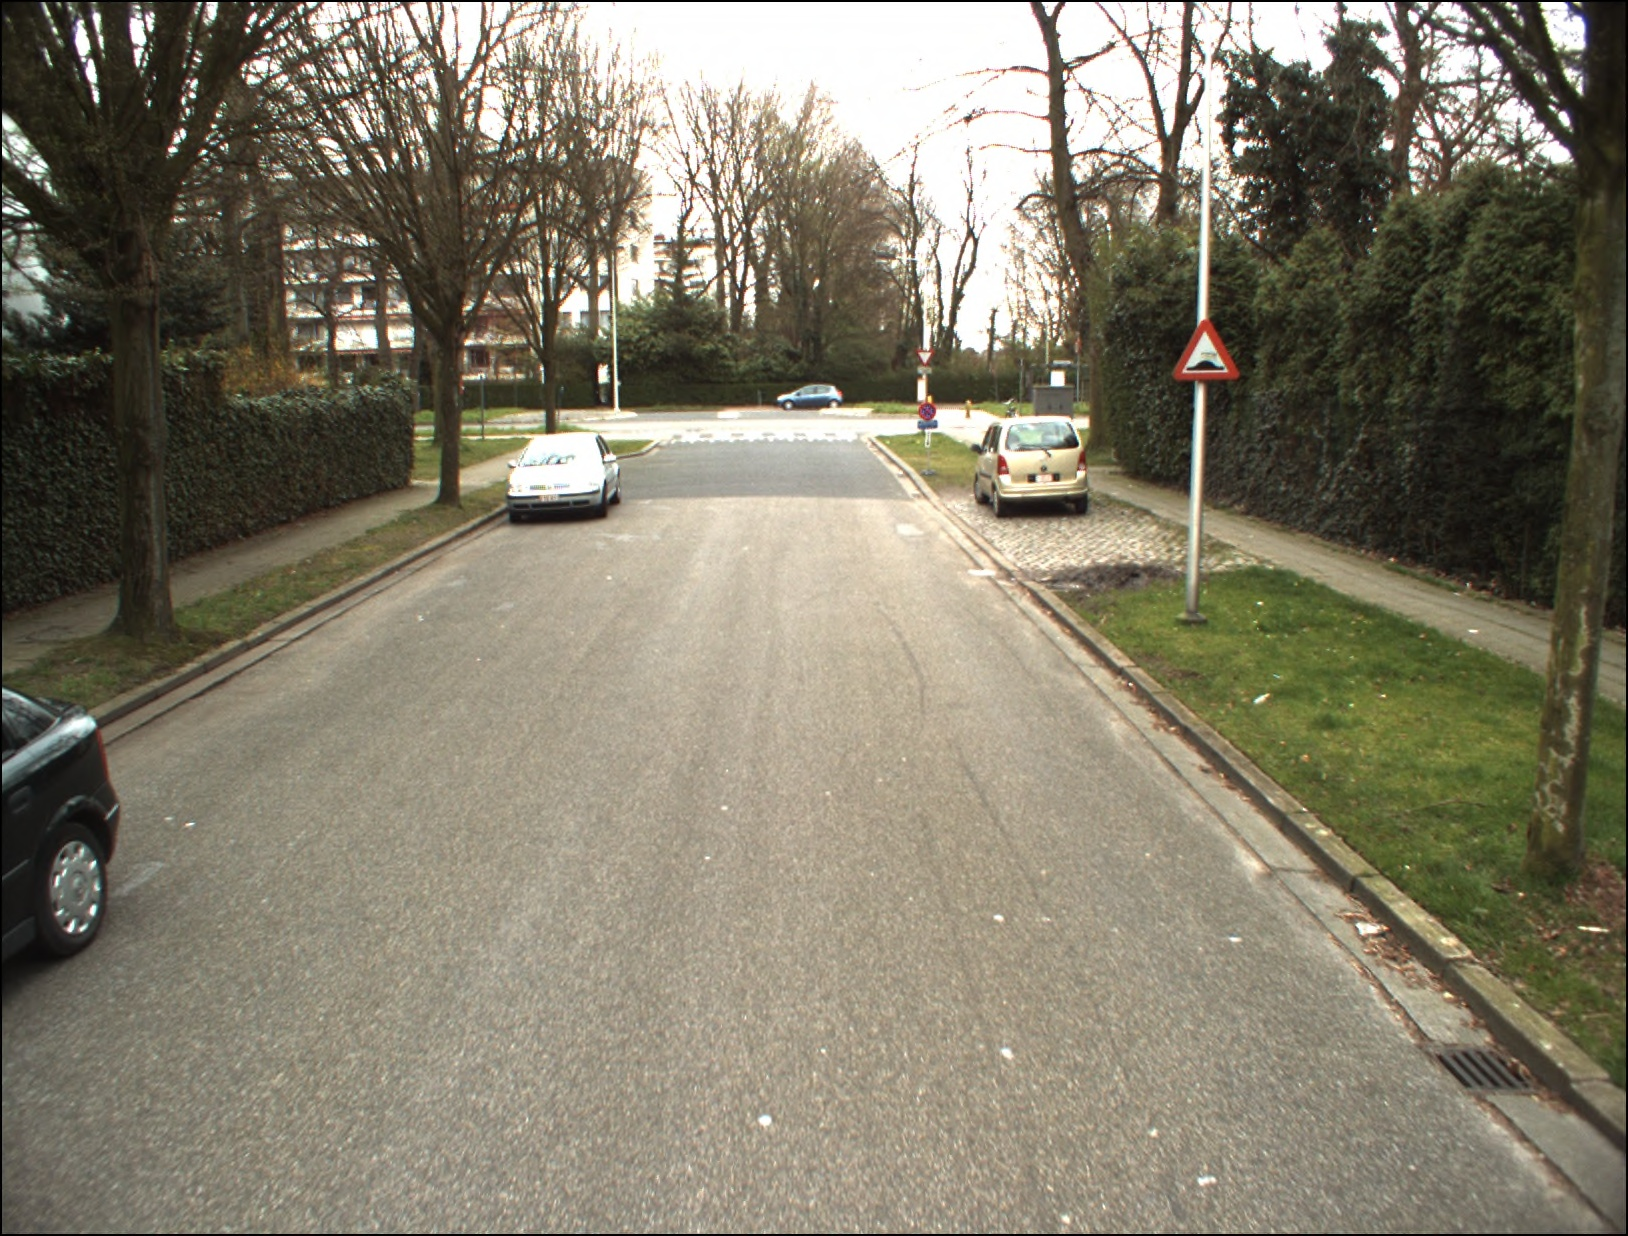giveway: (911, 347, 940, 367)
speedbump: (1167, 315, 1244, 386)
